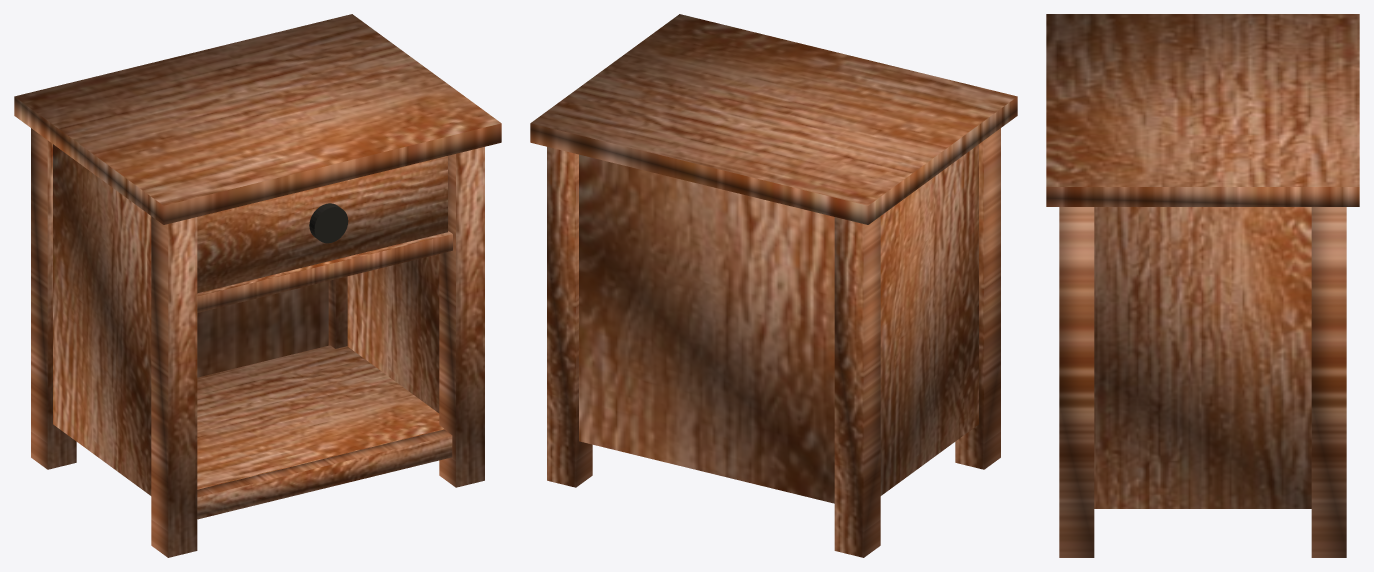
File: nakas.glb
The picture shows the model from 3 angles, left to right: view 1: azimuth 30°, elevation 25°; view 2: azimuth 150°, elevation 25°; view 3: azimuth 270°, elevation 25°; orthographic projection. The views are drawn at different scales.
Parts seen in each view (by area): view 1: Table_Top, Side_Panel_L, Bottom_Shelf, Drawer_Front, Leg_FL, Leg_FR, Side_Panel_R, Back_Panel.001, Leg_BL, Front_Bottom_Rail, Mid_Separator_Rail, Leg_BR (+1 smaller); view 2: Back_Panel.001, Table_Top, Side_Panel_L, Leg_BL, Leg_BR, Leg_FL; view 3: Side_Panel_R, Table_Top, Leg_FR, Leg_BR.
Part boxes in pixels (left/top/right/bottom): Table_Top: left=14, top=14, right=501, bottom=224; Side_Panel_L: left=53, top=144, right=151, bottom=495; Bottom_Shelf: left=197, top=345, right=444, bottom=489; Drawer_Front: left=197, top=156, right=447, bottom=293; Leg_FL: left=151, top=216, right=197, bottom=557; Leg_FR: left=439, top=147, right=484, bottom=487; Side_Panel_R: left=347, top=254, right=439, bottom=413; Back_Panel.001: left=197, top=281, right=328, bottom=377; Leg_BL: left=31, top=128, right=76, bottom=469; Front_Bottom_Rail: left=197, top=429, right=452, bottom=519; Mid_Separator_Rail: left=197, top=231, right=452, bottom=312; Leg_BR: left=328, top=276, right=347, bottom=348; Back_Panel.001: left=579, top=154, right=834, bottom=503; Table_Top: left=530, top=14, right=1017, bottom=224; Side_Panel_L: left=880, top=144, right=978, bottom=495; Leg_BL: left=834, top=216, right=880, bottom=557; Leg_BR: left=547, top=147, right=592, bottom=487; Leg_FL: left=955, top=128, right=1000, bottom=469; Side_Panel_R: left=1094, top=207, right=1311, bottom=508; Table_Top: left=1046, top=14, right=1359, bottom=206; Leg_FR: left=1059, top=207, right=1094, bottom=557; Leg_BR: left=1311, top=207, right=1346, bottom=557.
Bounding box in the file's own units: 0.64 × 0.65 × 0.49.
Materials: 2 (1 with a texture image).
